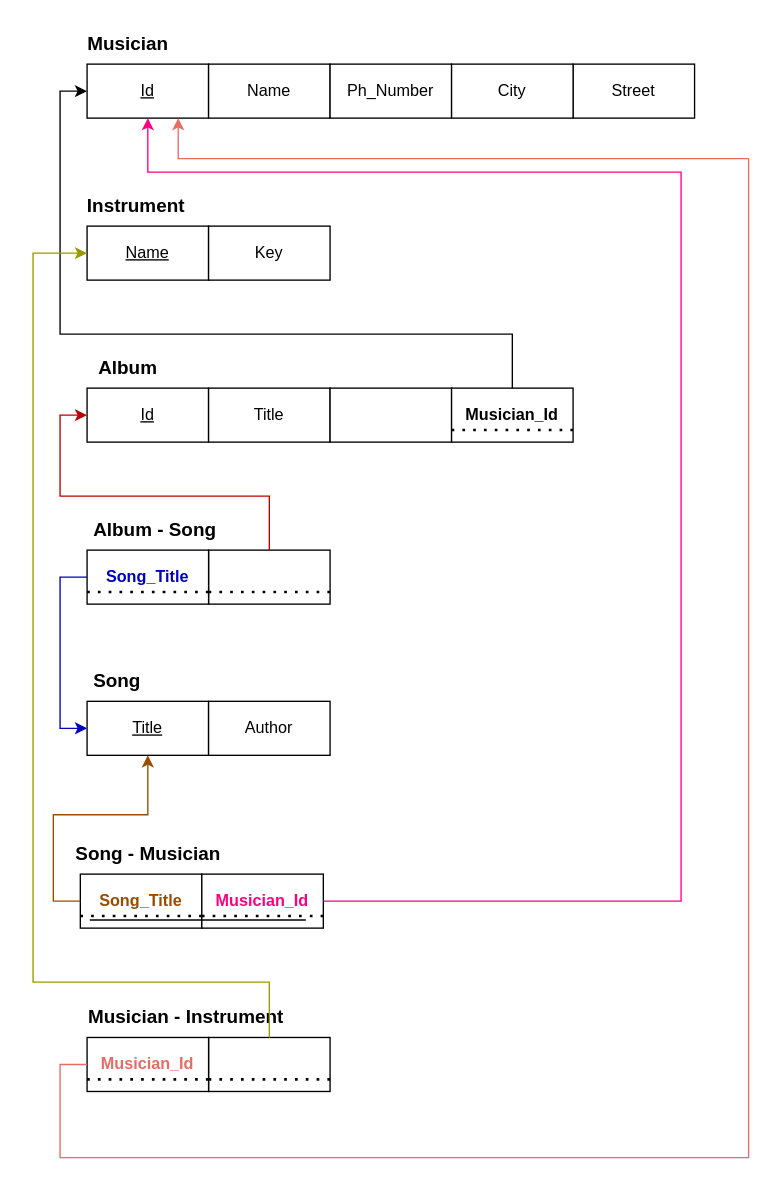
Some shapes in this 783 by 1192 pixel diagram are drawn without their labels. The box of each missing label's shape, as (x1, y1, x2, y2) in pixels:
Album_Id: (207, 549, 330, 604)
Date: (329, 387, 452, 442)
Inst_Name: (207, 1036, 330, 1091)
